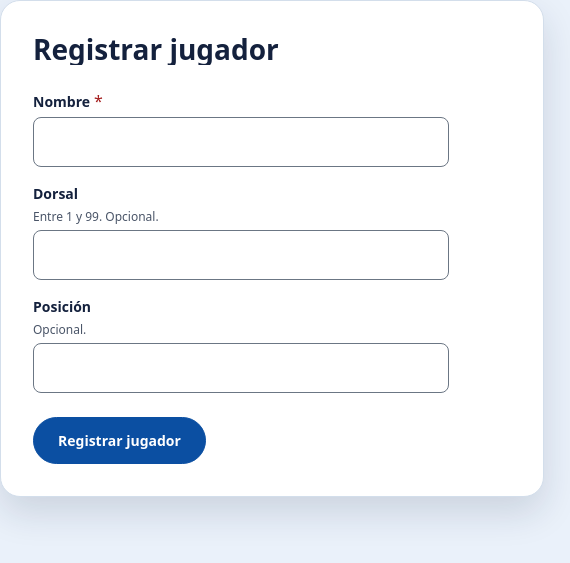
Scenario: CreatePlayerForm › muestra el error.message del envelope al recibir 409
Type "Andrés Gómez" into the field labelled "Nombre". click: (241, 142)
box: [33,117,449,167]
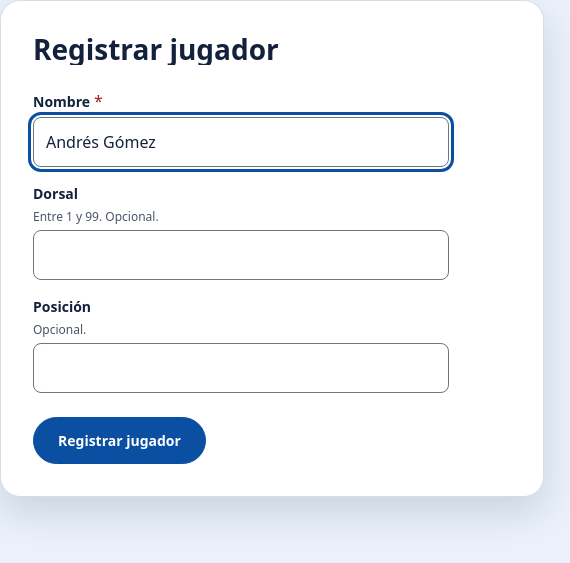
Type "10" into the number field labelled "Dorsal". click: (241, 255)
box: [33,230,449,280]
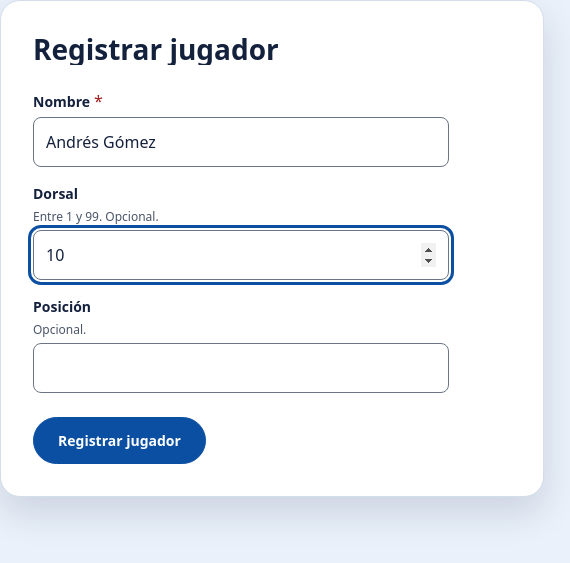
Click the button "Registrar jugador". click: (119, 441)
box: [33,417,206,464]
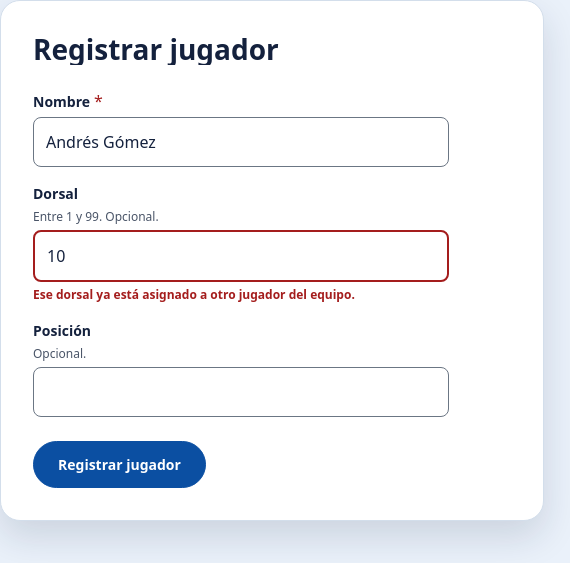
Check: the message reads "Ese dorsal ya está asignado a otro jugador del equipo.", box [33,286,355,303]
